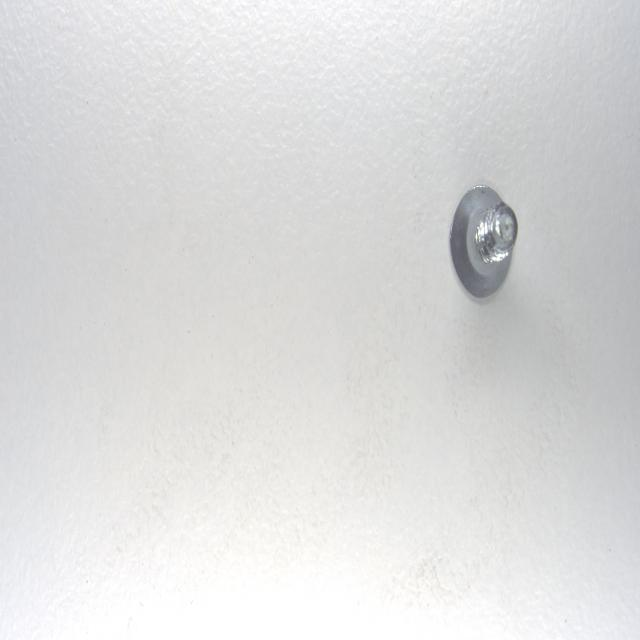Screw: (451, 184, 518, 297)
